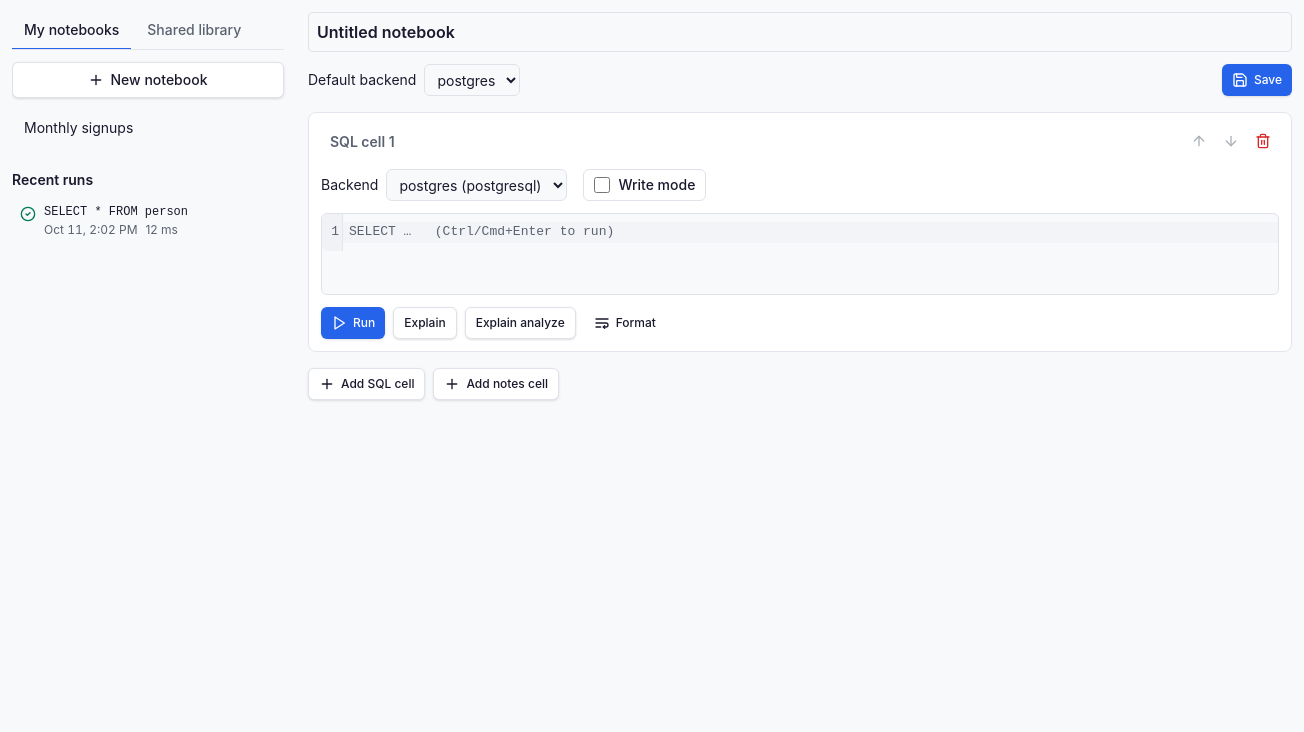
it: SqlWorkbenchWidget › explains a statement as a plan tree
This screenshot has width=1304, height=732.
Type "SELECT 1" into the field named "SQL for cell 1".
click(810, 232); type("SELECT 1")  # box [343,222,1278,243]
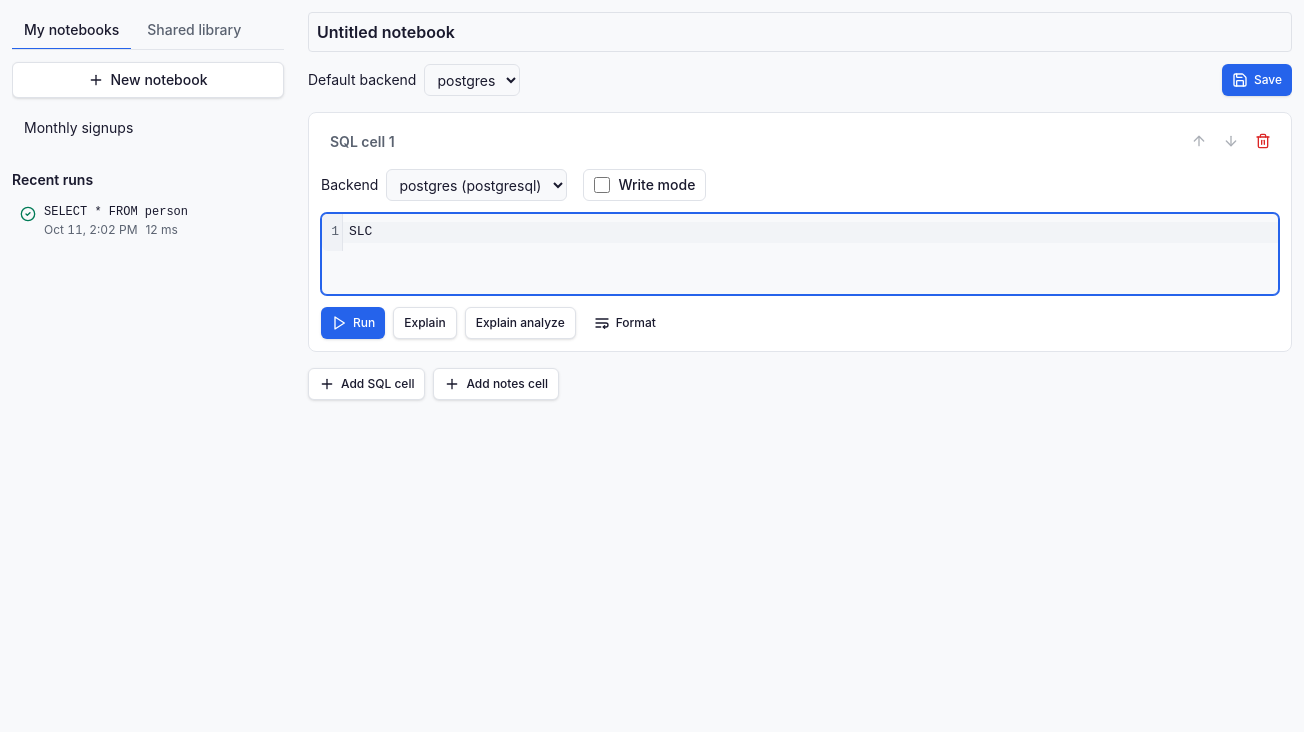
Click the button "Explain".
click(425, 323)  # box [393,307,457,339]
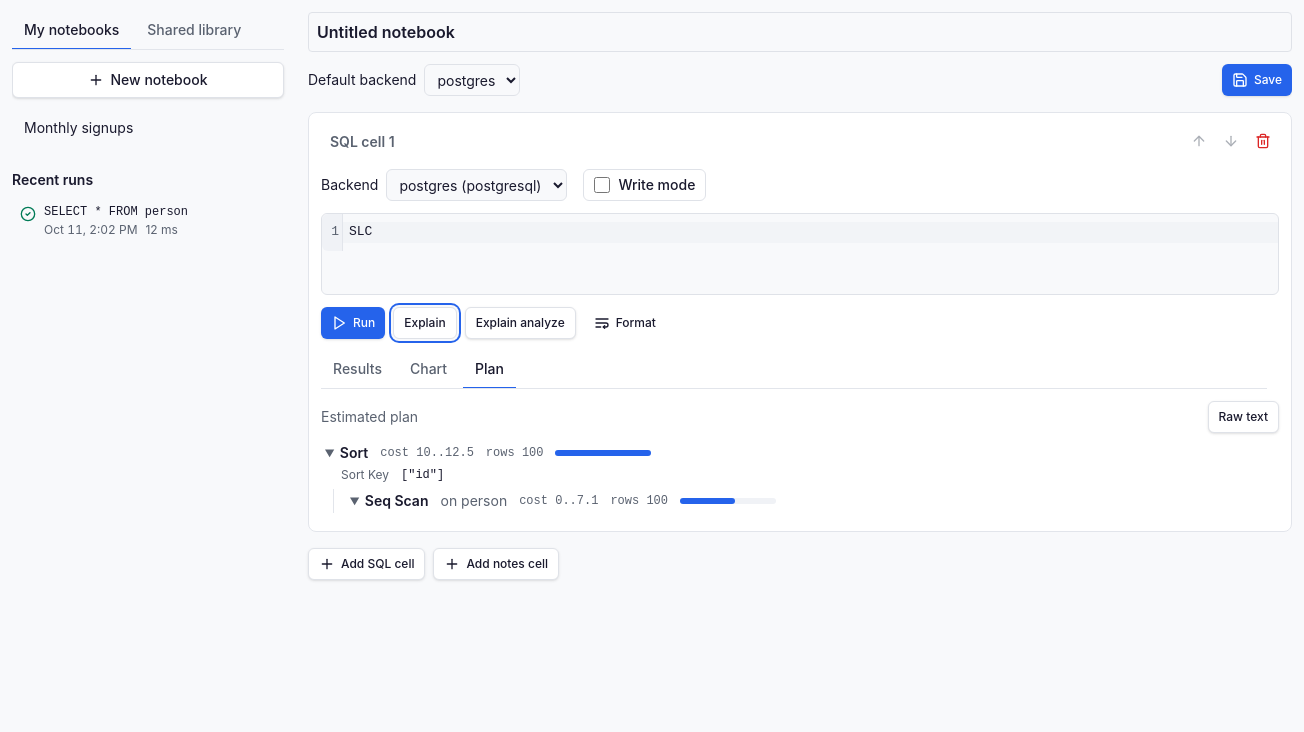
Expected: the text "Seq Scan" is shown, [365,491,428,511]
Click the button "Raw text".
click(1243, 417)  # box [1208,401,1279,433]
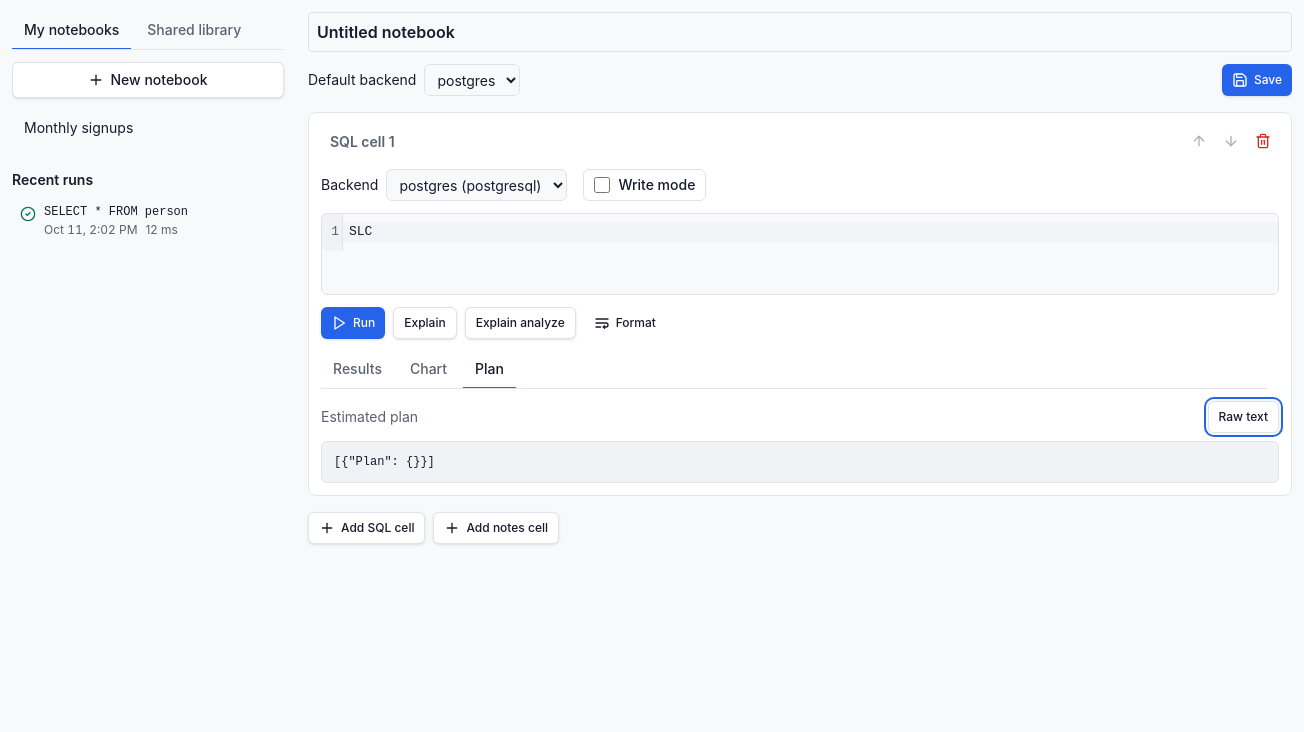
Expected: the text "[{\"Plan\": {}}]" is shown, [321,441,1279,483]
